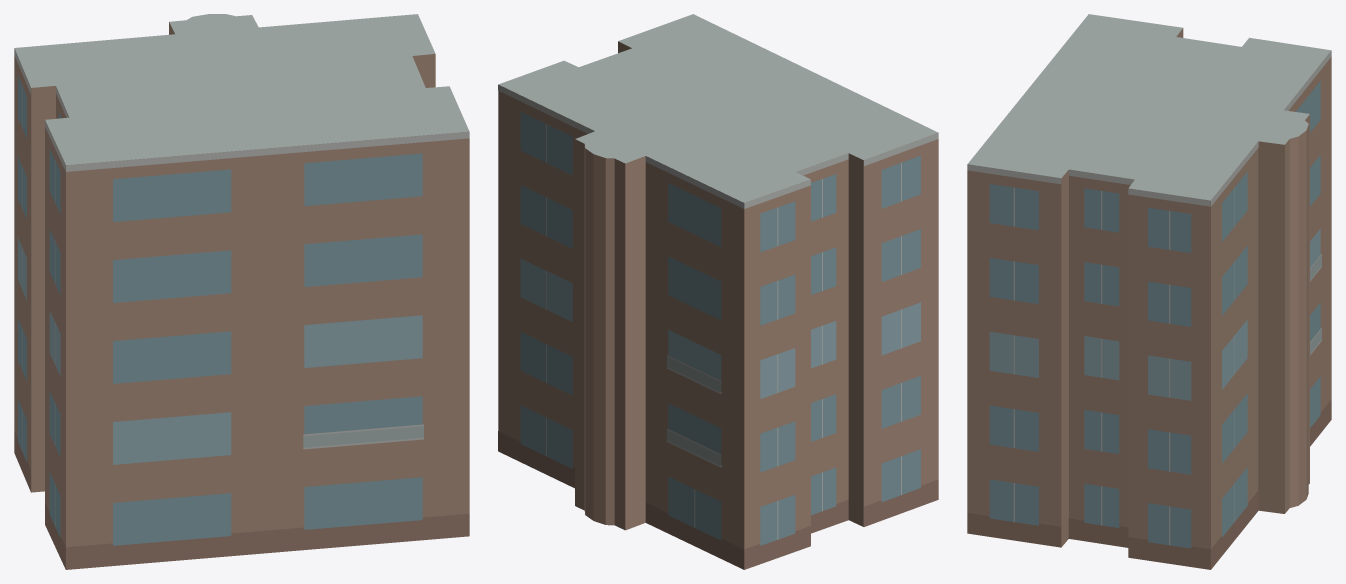
Rendered from survey-upis-32795195.glb.
3 views of the same model, side by side, from view 1: azimuth 30°, elevation 25°; view 2: azimuth 150°, elevation 25°; view 3: azimuth 270°, elevation 25° (orthographic). The views are drawn at different scales.
Parts seen in each view (by area): view 1: survey-upis-32795195.tmp; view 2: survey-upis-32795195.tmp; view 3: survey-upis-32795195.tmp.
Boxes of the visible parts, x1=… form: survey-upis-32795195.tmp: x1=14, y1=14, x2=469, y2=569; survey-upis-32795195.tmp: x1=498, y1=14, x2=938, y2=569; survey-upis-32795195.tmp: x1=967, y1=14, x2=1331, y2=569.
Bounding box in the file's own units: 15.83 × 14.6 × 13.06.
